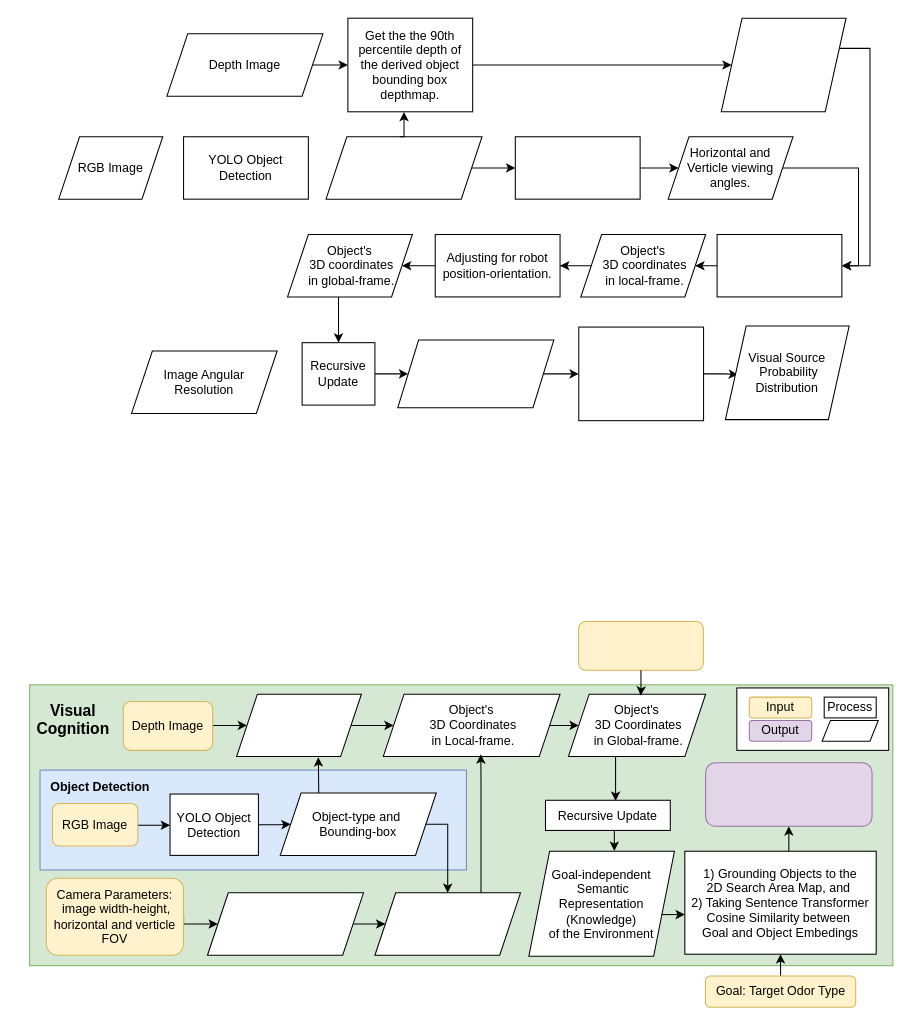
This 911x1025 diagram has some shape labels left out. The shapes that lost their labels are listed below. From the top down, each one's box as (x1, y1, x2, y2) in pixels, then its label:
(720, 17, 846, 112): Object's 3D displacement from the robot-frame.
(325, 136, 482, 199): Object bounding box attributes (bx, by, bw, bh)
(514, 136, 640, 199): Find object viewing angle
(716, 233, 842, 297): Projecting the to 3D space from robot's camera
(397, 339, 554, 408): Goal-independent Visual Knowledge of the Environment
(578, 326, 704, 421): Sentence Transformer cosine similarity of the object and goal embeddings.
(578, 620, 703, 670): Agent's 3D Coordinates and Orientation
(236, 693, 361, 757): Object Distance from the Agent
(821, 719, 878, 741): Result
(705, 762, 872, 826): Goal-dependent Visual Source Probability Distribution
(206, 892, 363, 955): Camera Angular Resolution (degrees per pixel)
(374, 892, 521, 955): Object's Verticle and Horizontal Viewing Angles.
